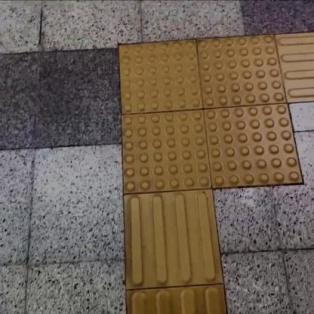Podoctatil: (103, 21, 313, 224), (123, 198, 231, 313)
